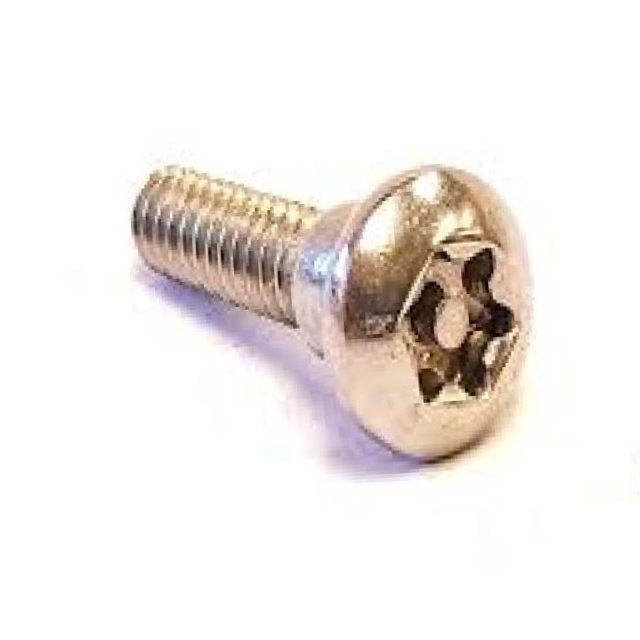torx: (316, 154, 550, 467)
